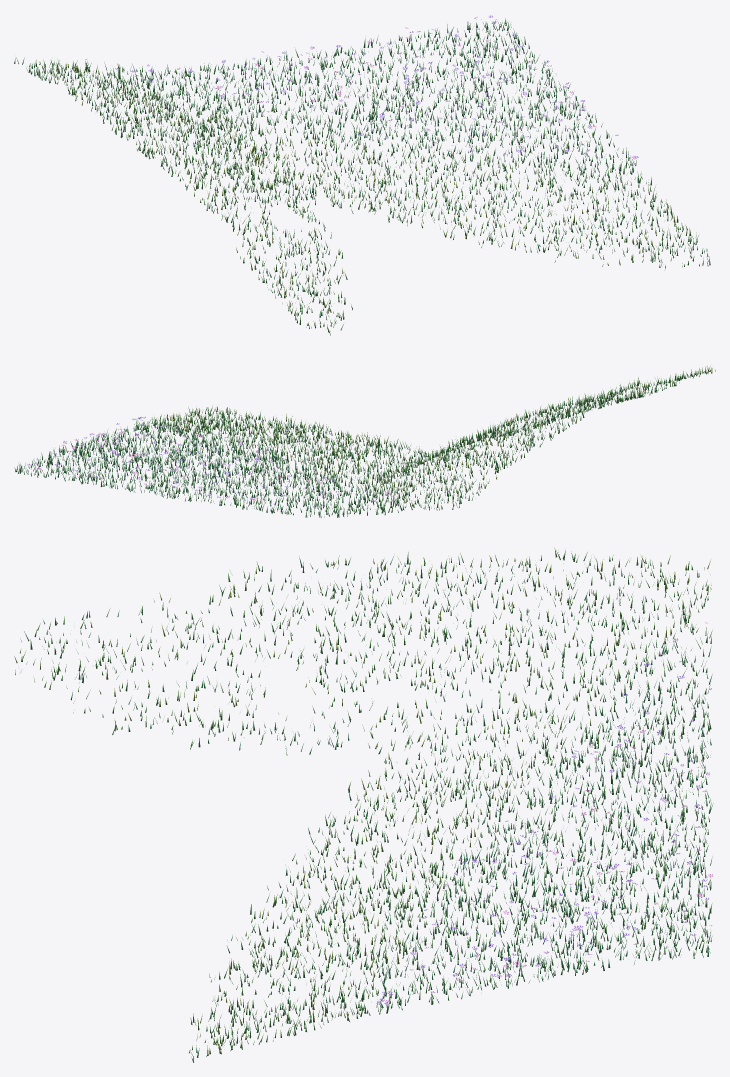
The picture shows the model from 3 angles, top to bottom: view 1: azimuth 30°, elevation 25°; view 2: azimuth 150°, elevation 25°; view 3: azimuth 270°, elevation 25°; orthographic projection. The views are drawn at different scales.
Parts seen in each view (by area): view 1: gc_3; view 2: gc_3; view 3: gc_3.
Boxes of the visible parts, <box> form: gc_3: <box>14,15,710,335</box>; gc_3: <box>14,366,715,517</box>; gc_3: <box>14,548,713,1062</box>.
Bounding box in the file's own units: 18.17 × 6.34 × 18.15.
Materials: 1 (1 with a texture image).
